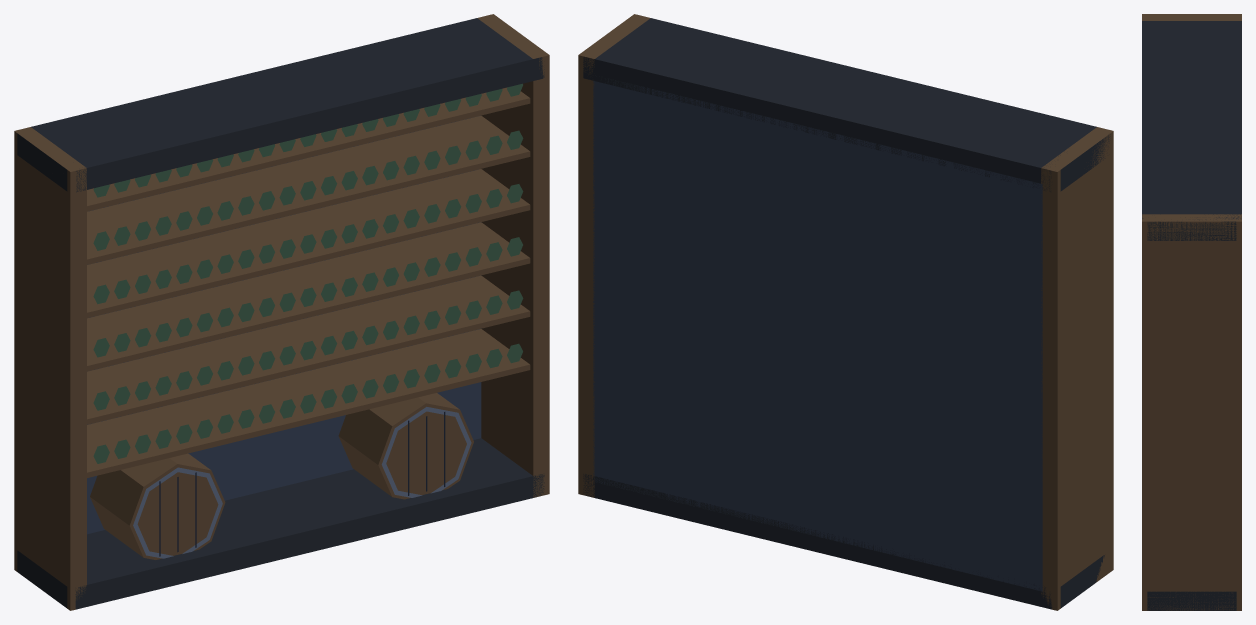
File: res_wine_rack_wall.glb
3 renders of one model, left to right at view 1: azimuth 30°, elevation 25°; view 2: azimuth 150°, elevation 25°; view 3: azimuth 270°, elevation 25°, orthographic. The views are drawn at different scales.
Visible parts, largest first — view 1: bottle_shelf, cabinet_cap, recessed_bottle_base, recessed_back, barrel_hoop, barrel_end_stave; view 2: recessed_back, cabinet_cap, bottle_shelf; view 3: bottle_shelf, cabinet_cap.
Boxes of the visible parts, <box> form: bottle_shelf: <box>14,14,549,610</box>; cabinet_cap: <box>17,18,544,609</box>; recessed_bottle_base: <box>93,83,523,463</box>; recessed_back: <box>87,115,481,534</box>; barrel_hoop: <box>133,407,471,558</box>; barrel_end_stave: <box>159,412,445,556</box>; recessed_back: <box>593,75,1042,591</box>; cabinet_cap: <box>583,18,1110,609</box>; bottle_shelf: <box>578,14,1113,610</box>; bottle_shelf: <box>1142,14,1241,610</box>; cabinet_cap: <box>1142,21,1241,610</box>.
Bounding box in the file's own units: 3.2 × 2.8 × 0.65.
